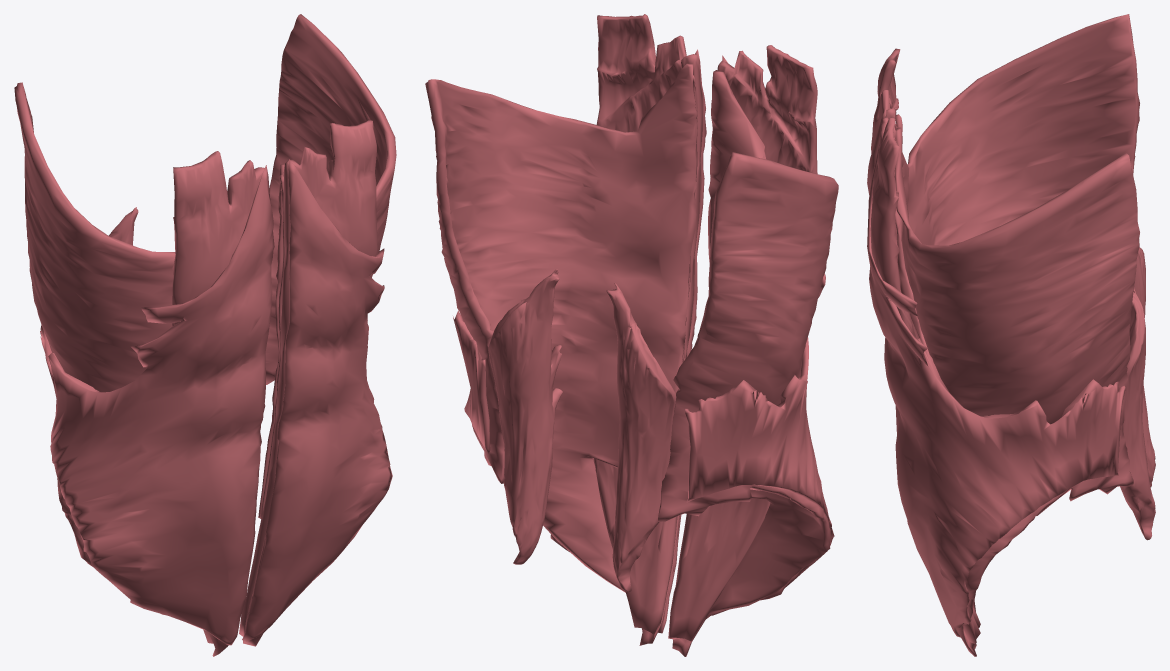
The model's file is abdominal.glb.
3 renders of one model, left to right at view 1: azimuth 30°, elevation 25°; view 2: azimuth 150°, elevation 25°; view 3: azimuth 270°, elevation 25°, orthographic. The views are drawn at different scales.
Parts seen in each view (by area): view 1: za_right_internal_oblique, za_left_internal_oblique, za_right_transversus_abdominis, za_left_transversus_abdominis, za_left_rectus_abdominis, za_right_rectus_abdominis, za_right_quadratus_lumborum; view 2: za_left_transversus_abdominis, za_right_transversus_abdominis, za_right_rectus_abdominis, za_left_rectus_abdominis, za_right_internal_oblique, za_left_quadratus_lumborum, za_right_quadratus_lumborum, za_left_internal_oblique; view 3: za_left_transversus_abdominis, za_left_internal_oblique, za_right_transversus_abdominis, za_left_quadratus_lumborum, za_left_rectus_abdominis, za_right_rectus_abdominis, za_right_quadratus_lumborum, za_right_internal_oblique.
Boxes of the visible parts, x1,y1,x2,y2 form: za_right_internal_oblique: (40, 165, 274, 645); za_left_internal_oblique: (242, 159, 392, 641); za_right_transversus_abdominis: (14, 82, 228, 656); za_left_transversus_abdominis: (243, 14, 396, 646); za_left_rectus_abdominis: (239, 119, 377, 636); za_right_rectus_abdominis: (172, 151, 264, 643); za_right_quadratus_lumborum: (108, 207, 138, 245); za_left_transversus_abdominis: (425, 63, 696, 645); za_right_transversus_abdominis: (658, 70, 838, 656); za_right_rectus_abdominis: (668, 45, 817, 641); za_left_rectus_abdominis: (593, 14, 702, 634); za_right_internal_oblique: (685, 55, 834, 618); za_left_quadratus_lumborum: (488, 269, 562, 564); za_right_quadratus_lumborum: (606, 283, 676, 591); za_left_internal_oblique: (453, 49, 706, 633); za_left_transversus_abdominis: (894, 127, 1139, 656); za_left_internal_oblique: (867, 139, 1125, 637); za_right_transversus_abdominis: (895, 14, 1139, 245); za_left_quadratus_lumborum: (1120, 288, 1155, 540); za_left_rectus_abdominis: (870, 117, 980, 643); za_right_rectus_abdominis: (871, 48, 980, 627); za_right_quadratus_lumborum: (1134, 247, 1155, 487); za_right_internal_oblique: (867, 106, 899, 433).
Bounding box in the file's own units: 0.2661 × 0.4209 × 0.1959.
